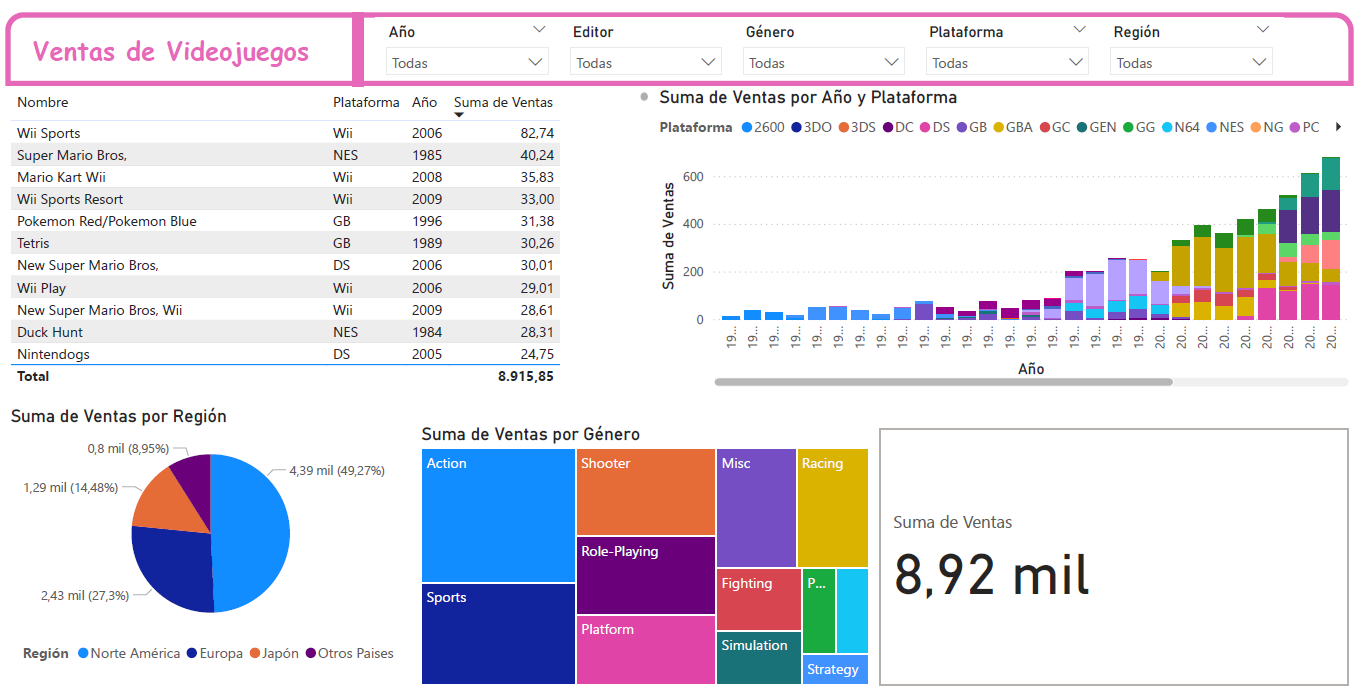

The dashboard page shown, as its layout file describes it:
{"tool":"powerbi","page":{"name":"Página 1","canvas":[1280,720],"ordinal":0},"visuals":[{"type":"shape","box":[0,0,1280.3,70],"z":0},{"type":"tableEx","fields":{"Values":["vgsales.Nombre","vgsales.Plataforma","vgsales.Año","Sum(vgsales.Ventas)"]},"box":[0,70,616.1,289.5],"z":1000},{"type":"columnChart","fields":{"Category":["vgsales.Año"],"Y":["Sum(vgsales.Ventas)"],"Series":["vgsales.Plataforma"]},"box":[616.1,70,664.2,289.5],"z":2000},{"type":"pieChart","fields":{"Category":["vgsales.Región"],"Y":["Sum(vgsales.Ventas)"]},"box":[0,373.2,389.7,253.9],"z":3000},{"type":"treemap","fields":{"Group":["vgsales.Género"],"Values":["Sum(vgsales.Ventas)"]},"box":[390,390,520,254],"z":4000},{"type":"slicer","fields":{"Values":["vgsales.Año"]},"box":[351.3,5.5,174.3,59],"z":5000},{"type":"slicer","fields":{"Values":["vgsales.Editor"]},"box":[525.6,5.5,164.7,59],"z":6000},{"type":"slicer","fields":{"Values":["vgsales.Género"]},"box":[690.2,5.5,174.3,59],"z":7000},{"type":"slicer","fields":{"Values":["vgsales.Plataforma"]},"box":[864.5,5.5,174.3,59],"z":8000},{"type":"slicer","fields":{"Values":["vgsales.Región"]},"box":[1038.8,5.5,174.3,59],"z":9000},{"type":"shape","box":[107,0,456,70],"z":10000},{"type":"textbox","box":[20.6,13.7,301.9,43.9],"z":11000},{"type":"cardVisual","fields":{"Data":["Sum(vgsales.Ventas)"]},"box":[910,390,370,254],"z":12000}]}

Visuals, with their boxes on the page's 1280x720 design canvas (x1, y1, x2, y2). These are canvas units, not pixel positions in the 1358x697 screenshot, which may show the page scaled, cropped or inside an application window:
shape: rect(0, 0, 1280, 70)
tableEx - vgsales.Nombre x vgsales.Plataforma: rect(0, 70, 616, 360)
columnChart - vgsales.Año x Sum(vgsales.Ventas): rect(616, 70, 1280, 360)
pieChart - vgsales.Región x Sum(vgsales.Ventas): rect(0, 373, 390, 627)
treemap - vgsales.Género x Sum(vgsales.Ventas): rect(390, 390, 910, 644)
slicer - vgsales.Año: rect(351, 6, 526, 64)
slicer - vgsales.Editor: rect(526, 6, 690, 64)
slicer - vgsales.Género: rect(690, 6, 864, 64)
slicer - vgsales.Plataforma: rect(864, 6, 1039, 64)
slicer - vgsales.Región: rect(1039, 6, 1213, 64)
shape: rect(107, 0, 563, 70)
textbox: rect(21, 14, 322, 58)
cardVisual - Sum(vgsales.Ventas): rect(910, 390, 1280, 644)
